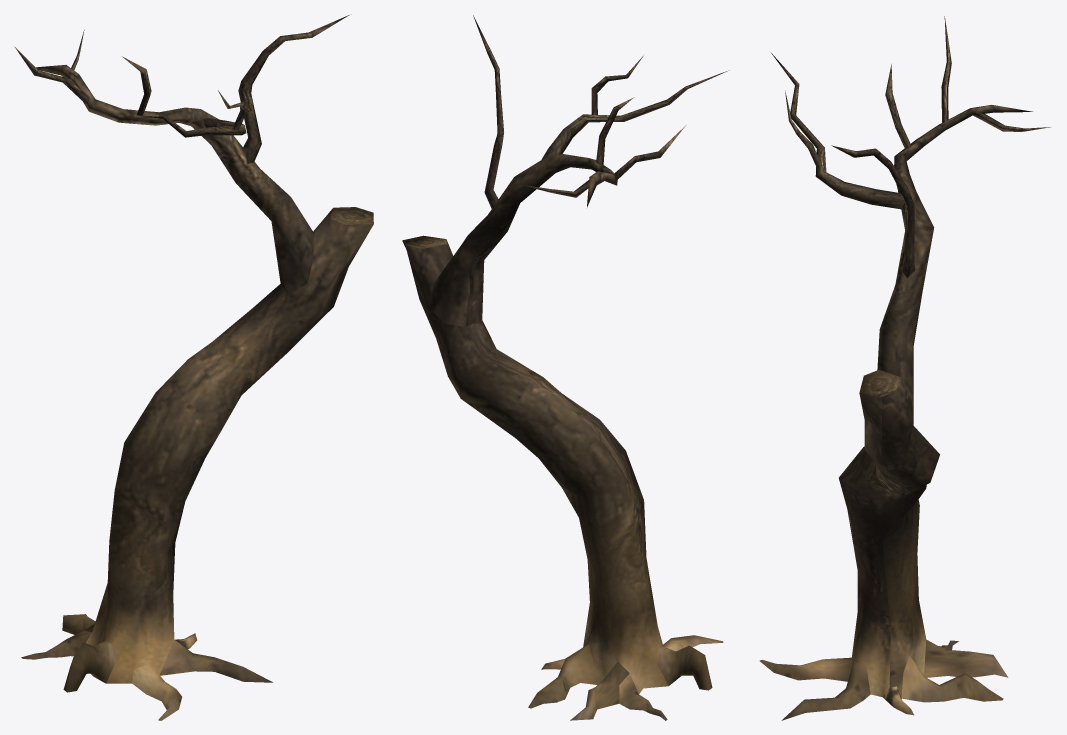
Rendered from SC_tamalagebi_14.FBX.
3 views of the same model, side by side, from view 1: azimuth 30°, elevation 25°; view 2: azimuth 150°, elevation 25°; view 3: azimuth 270°, elevation 25° (orthographic). The views are drawn at different scales.
Visible parts, largest first — view 1: SC_tamalagebi_14; view 2: SC_tamalagebi_14; view 3: SC_tamalagebi_14.
Boxes of the visible parts, x1,y1,x2,y2 form: SC_tamalagebi_14: [14, 15, 373, 720]; SC_tamalagebi_14: [402, 15, 729, 720]; SC_tamalagebi_14: [759, 16, 1050, 720].
Size of the model in its own units: 321 by 585 by 249.
